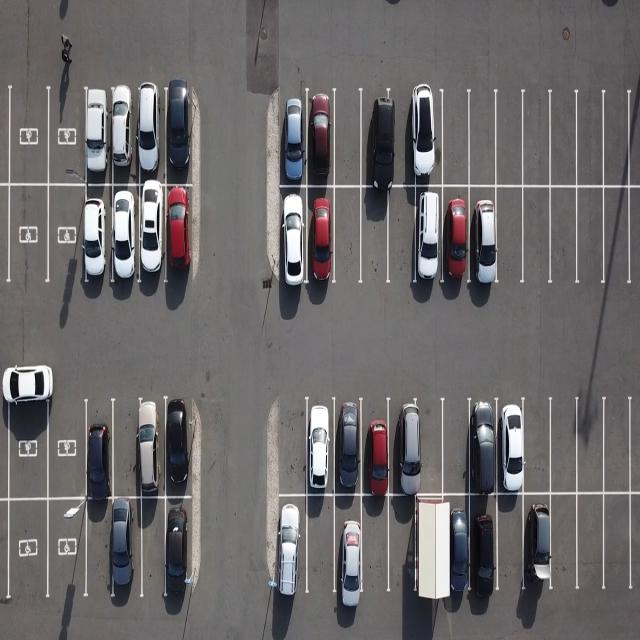space-empty: (2, 384, 47, 501), (46, 390, 90, 499), (110, 398, 155, 498), (5, 182, 47, 288), (46, 181, 87, 289), (5, 499, 47, 603), (7, 82, 47, 186), (572, 488, 610, 593), (543, 494, 582, 596), (48, 82, 87, 184), (410, 496, 447, 602), (305, 495, 340, 606), (357, 497, 393, 601), (492, 491, 528, 594), (601, 494, 637, 595), (546, 398, 582, 497), (386, 184, 421, 284), (492, 184, 526, 286), (331, 188, 365, 290), (436, 398, 472, 494), (356, 187, 391, 285), (274, 398, 309, 496), (604, 184, 636, 290), (547, 183, 580, 285), (81, 498, 114, 600), (572, 398, 606, 497), (522, 184, 555, 285), (332, 87, 366, 185), (522, 397, 556, 495), (136, 498, 168, 602), (602, 398, 635, 497), (573, 184, 605, 286), (437, 92, 470, 187), (414, 404, 447, 499), (522, 92, 555, 186), (548, 90, 580, 185), (573, 90, 605, 185), (492, 90, 524, 184), (603, 88, 634, 185), (384, 497, 415, 594), (468, 92, 499, 185), (389, 91, 416, 190)
space-occupied: (46, 495, 88, 599), (466, 495, 505, 602), (358, 87, 400, 186), (435, 497, 473, 606), (274, 492, 310, 606), (162, 184, 202, 284), (163, 497, 199, 605), (130, 397, 168, 498), (332, 494, 366, 606), (465, 400, 503, 498), (80, 397, 116, 499), (407, 93, 445, 189), (111, 498, 146, 602), (466, 184, 501, 288), (305, 186, 340, 290), (521, 491, 557, 592), (436, 184, 470, 288), (134, 183, 168, 287), (78, 182, 111, 288), (163, 398, 198, 497), (358, 398, 394, 494), (332, 397, 368, 493), (390, 399, 426, 495), (110, 182, 143, 286), (492, 399, 528, 494), (413, 185, 446, 287), (280, 183, 311, 291), (306, 400, 340, 498), (307, 90, 339, 188), (166, 85, 197, 184), (281, 89, 311, 187), (134, 86, 164, 184), (83, 88, 111, 185), (112, 88, 139, 184)
